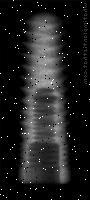Implant Direct: (17, 10, 73, 185)
